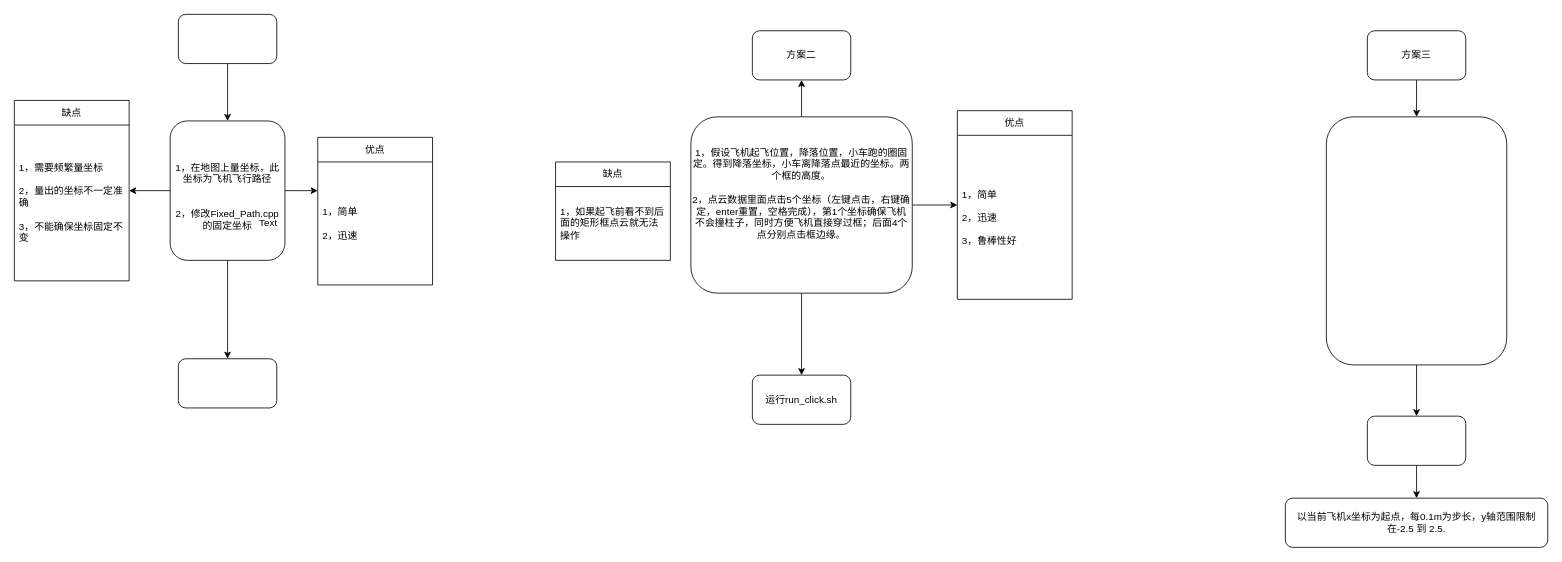
Some shapes in this 1562 by 562 pixel diagram are drawn without their labels. Here are the shapes that lost their labels. From the top down, the centre of each, then its label:
the point at 227,39: 方案1
the point at 1416,240: 1，假设飞机起飞位置，降落位置，小车跑的圈固定。得到降落坐标，小车离降落点最近的坐标。两个框的高度。 2，点击两个坐标，确保飞机穿过前两个柱子
the point at 227,383: 运行run_fix.sh
the point at 1416,440: 获取两个柱的中心坐标
